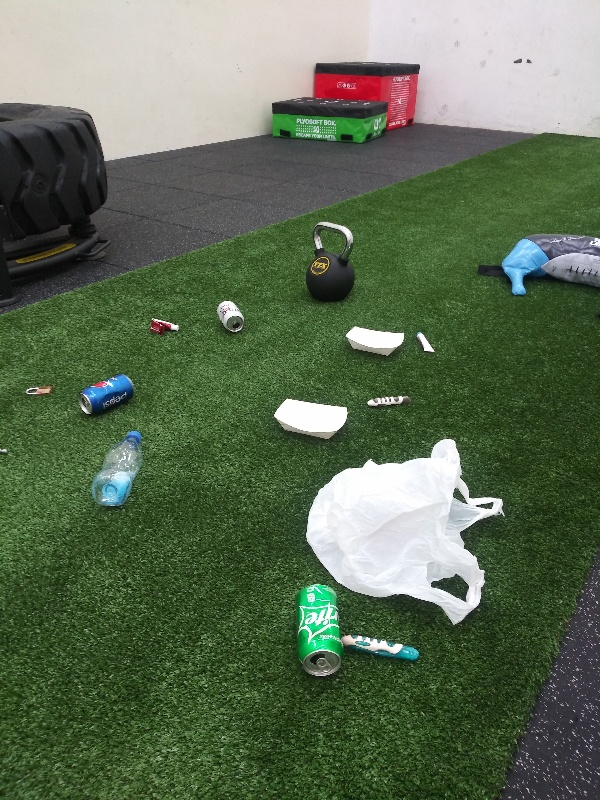bottle: (86, 427, 147, 506)
can: (288, 578, 347, 684), (77, 368, 143, 419), (214, 297, 246, 336)
plate: (266, 395, 349, 445), (339, 323, 407, 360)
